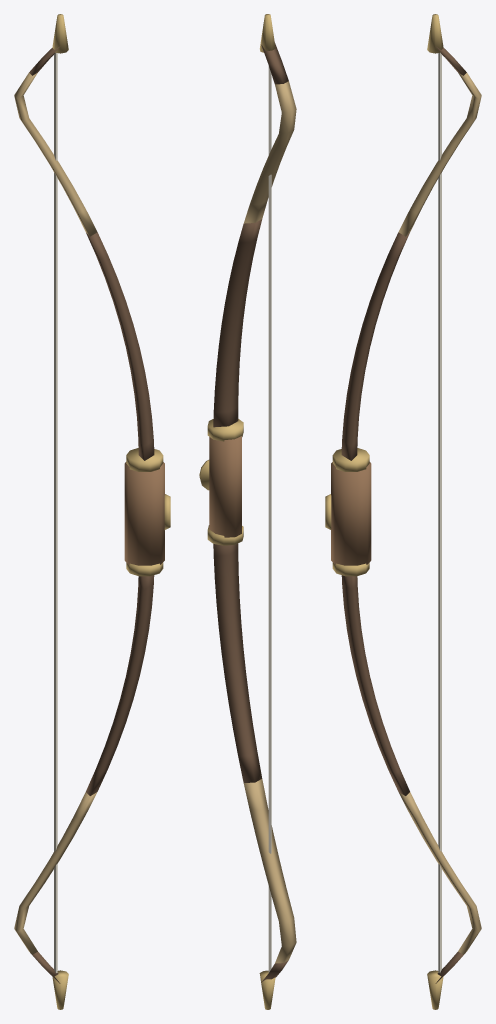
Rendered from bow_devi.glb.
3 renders of one model, left to right at view 1: azimuth 90°, elevation 25°; view 2: azimuth 210°, elevation 25°; view 3: azimuth 270°, elevation 25°, orthographic.
Parts seen in each view (by area): view 1: grip, string, limb, limb.003, limb.001, limb.004, band, tip, tip.001, band.001; view 2: limb.003, limb, string, grip, limb.004, limb.001, band, limb.002, tip, tip.001, band.001; view 3: grip, string, limb, limb.003, limb.001, limb.004, band, tip, tip.001, band.001.
Part boxes in pixels (x1,y1,x2,y2): grip: (124,462,164,565); string: (54,52,57,972); limb: (86,232,154,460); limb.003: (86,575,154,795); limb.001: (14,73,97,236); limb.004: (14,792,97,954); band: (126,448,163,471); tip: (52,14,68,53); tip.001: (52,970,68,1009); band.001: (126,562,163,576); limb.003: (213,543,262,782); limb: (213,219,262,427); string: (268,66,271,972); grip: (209,436,241,537); limb.004: (243,779,296,963); limb.001: (243,81,296,223); band: (207,419,243,441); limb.002: (261,42,288,84); tip: (259,14,275,52); tip.001: (259,970,275,1009); band.001: (207,525,243,545); grip: (331,462,371,565); string: (438,52,441,972); limb: (341,232,409,460); limb.003: (341,575,409,795); limb.001: (398,73,481,236); limb.004: (398,792,481,954); band: (332,448,369,471); tip: (427,14,443,53); tip.001: (427,970,443,1009); band.001: (332,562,369,576).
Size of the model in its own units: 0.048 by 1.43 by 0.2044.
